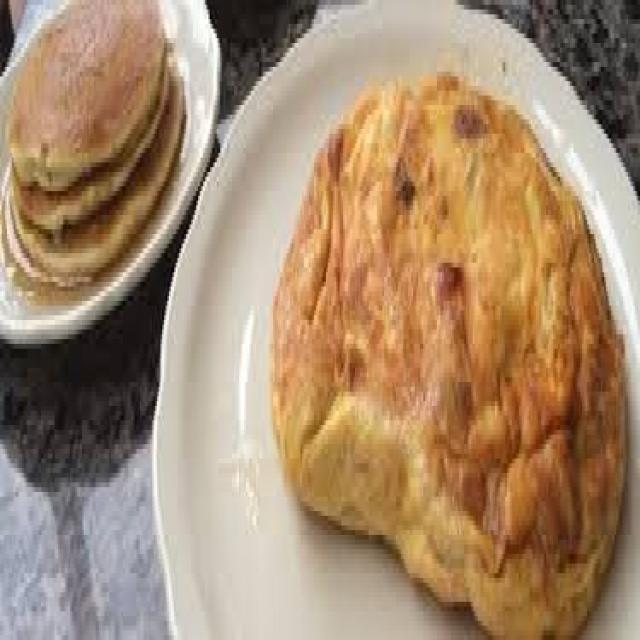Omelette: (264, 62, 630, 635)
Pancakes: (7, 2, 188, 280)
